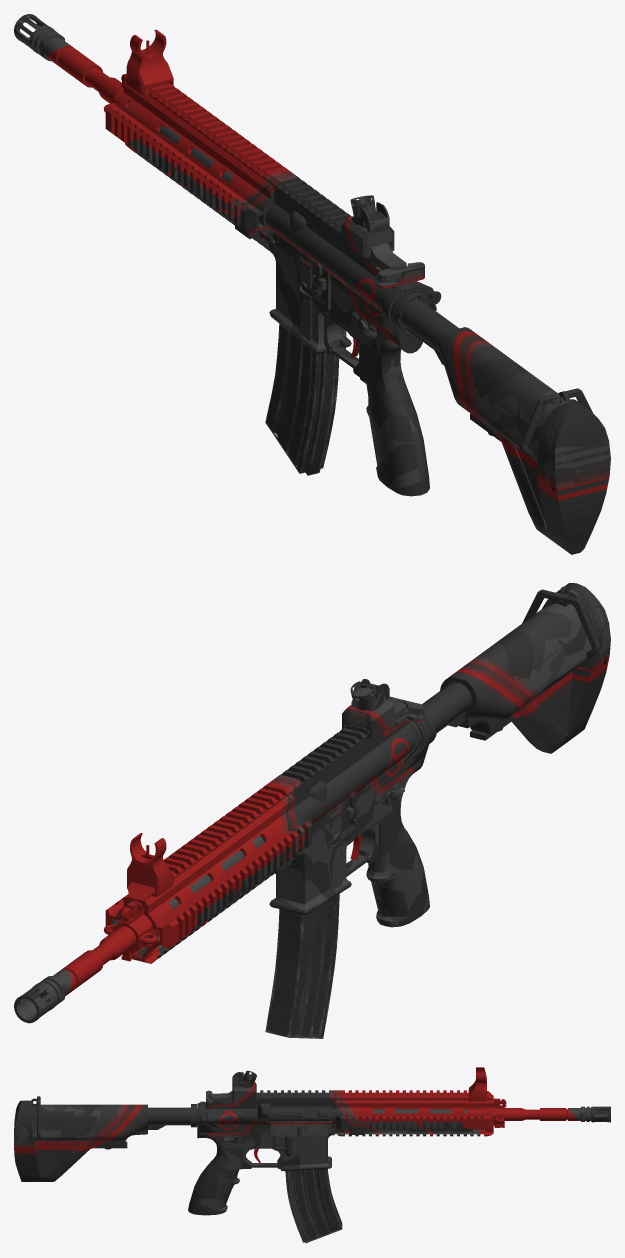
Rendered from Gun_4.fbx.
3 views of the same model, one above another, from view 1: azimuth 30°, elevation 25°; view 2: azimuth 150°, elevation 25°; view 3: azimuth 270°, elevation 25° (orthographic). The views are drawn at different scales.
Visible parts, largest first — view 1: HK416_01_MI_HK416_01_0.001; view 2: HK416_01_MI_HK416_01_0.001; view 3: HK416_01_MI_HK416_01_0.001.
Part boxes in pixels (left/top/right/bottom): HK416_01_MI_HK416_01_0.001: left=14, top=14, right=610, bottom=554; HK416_01_MI_HK416_01_0.001: left=14, top=583, right=610, bottom=1038; HK416_01_MI_HK416_01_0.001: left=14, top=1067, right=610, bottom=1243.
Bounding box in the file's own units: 59.75 × 231 × 732.
1 material, 1 textured.
